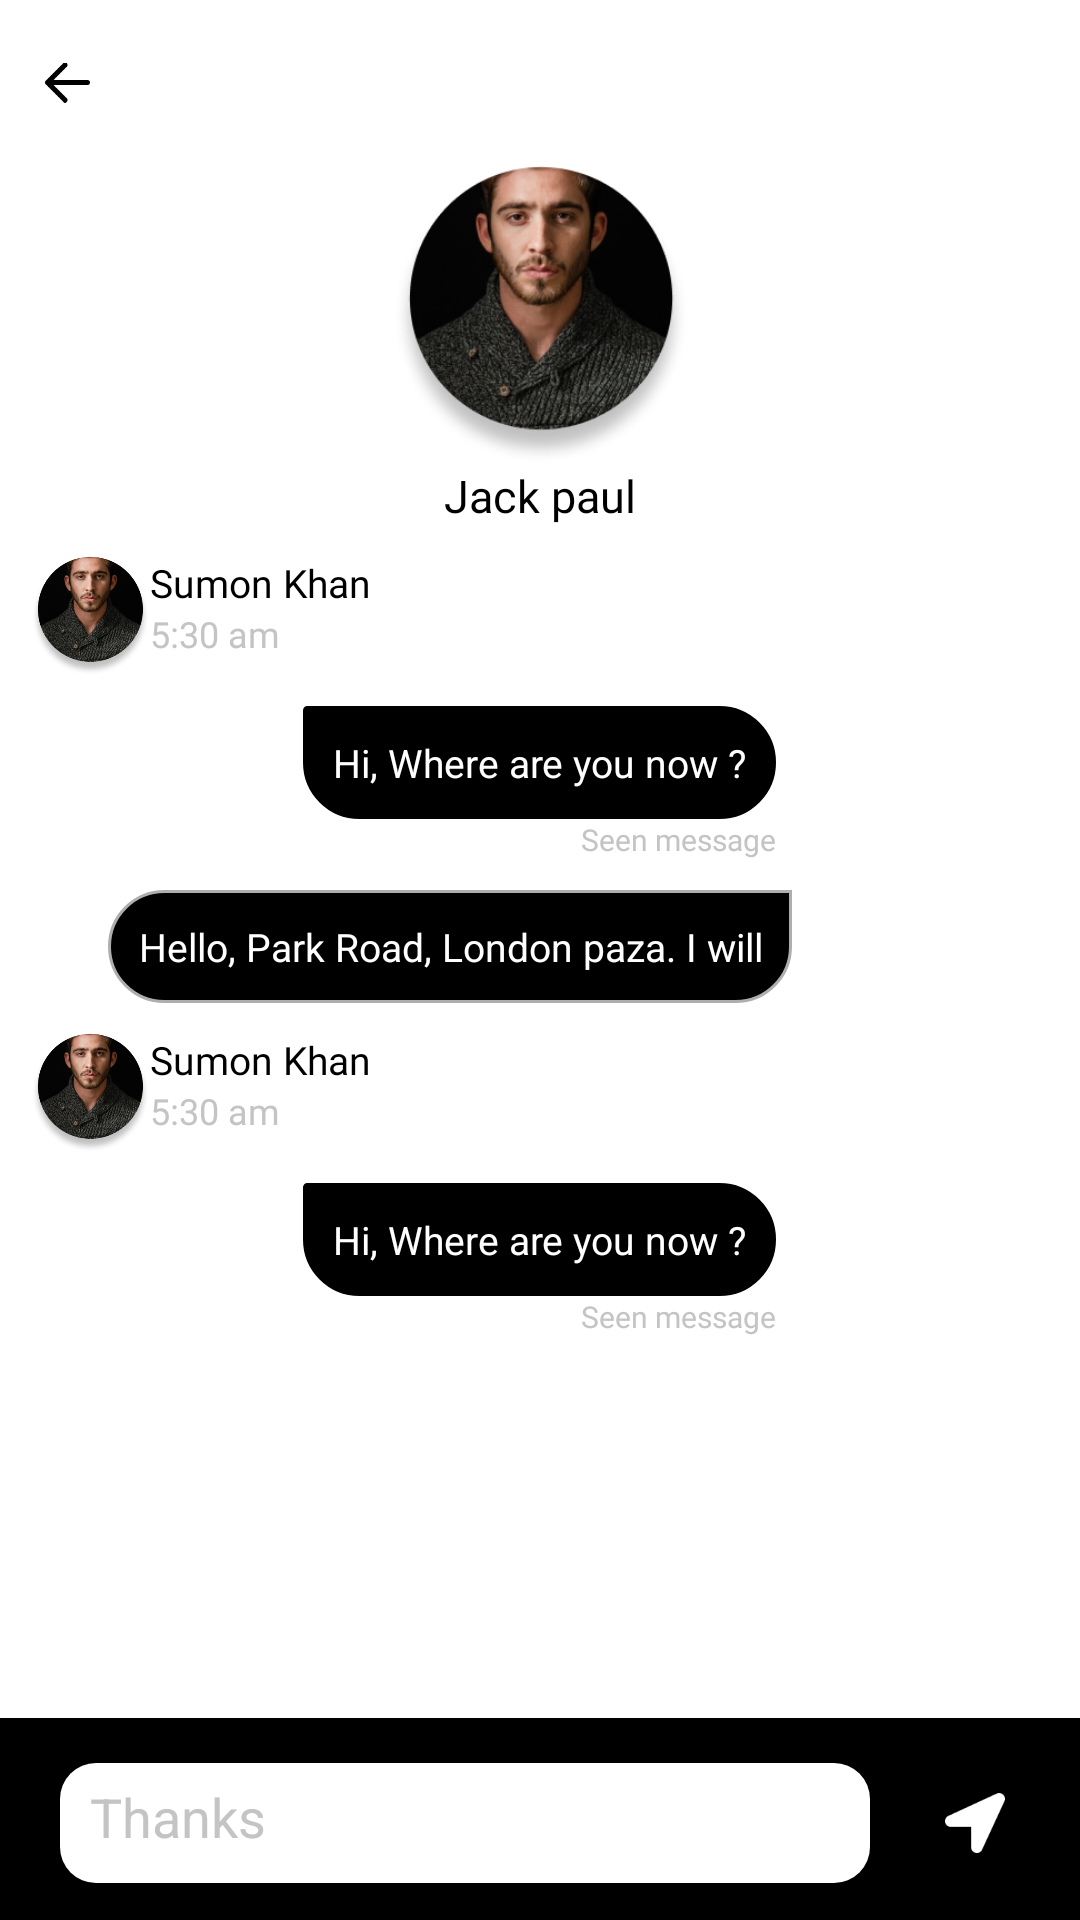

Point at icon controls on the screen. Image size 1080 × 1920, points as (x=x, y=y).
back: (x=67, y=83)
send msg: (x=975, y=1823)
user: (x=541, y=308), (x=90, y=613), (x=90, y=1090)
